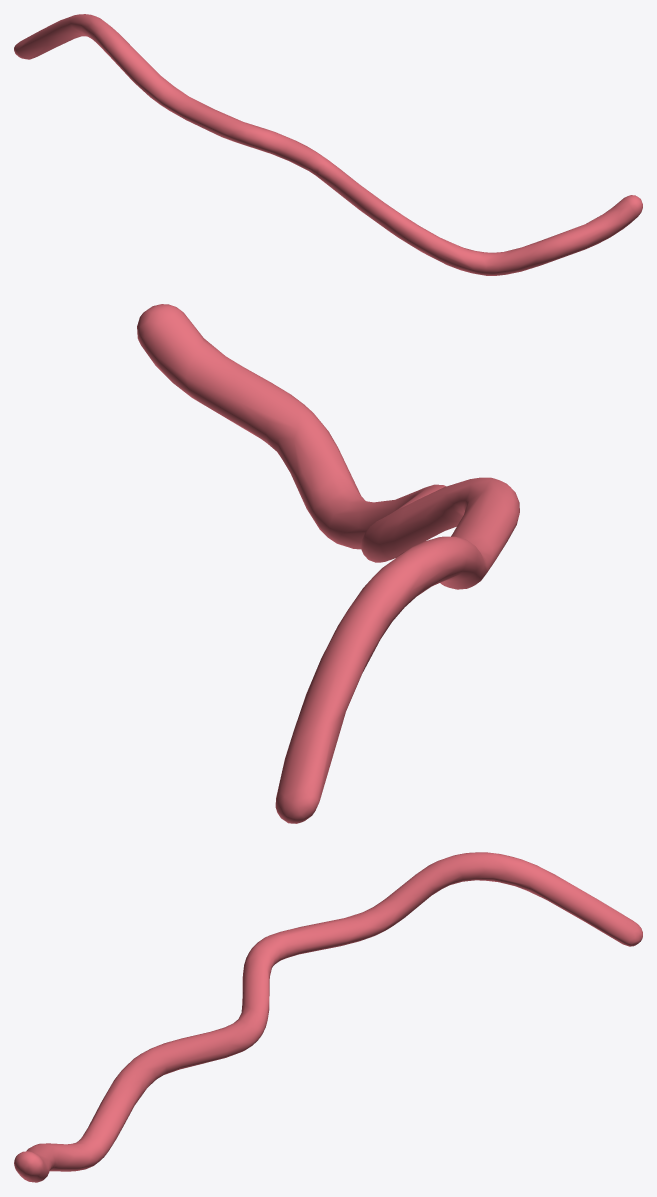
The model's file is fma50986_fj4679.glb.
The picture shows the model from 3 angles, top to bottom: view 1: azimuth 30°, elevation 25°; view 2: azimuth 150°, elevation 25°; view 3: azimuth 270°, elevation 25°; orthographic projection. The views are drawn at different scales.
Visible parts, largest first — view 1: FMA50986_FJ4679; view 2: FMA50986_FJ4679; view 3: FMA50986_FJ4679.
Part boxes in pixels (x1,y1,x2,y2): FMA50986_FJ4679: (14, 14, 642, 275); FMA50986_FJ4679: (137, 304, 519, 823); FMA50986_FJ4679: (14, 852, 642, 1182).
Bounding box in the file's own units: 0.0438 × 0.0205 × 0.0597.
